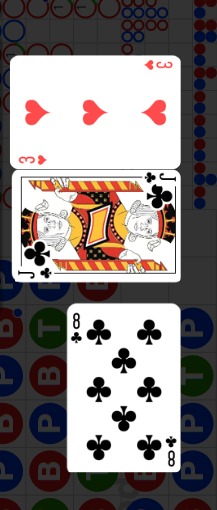3H: (141, 60, 173, 72)
8C: (69, 312, 83, 346), (163, 435, 176, 469)
